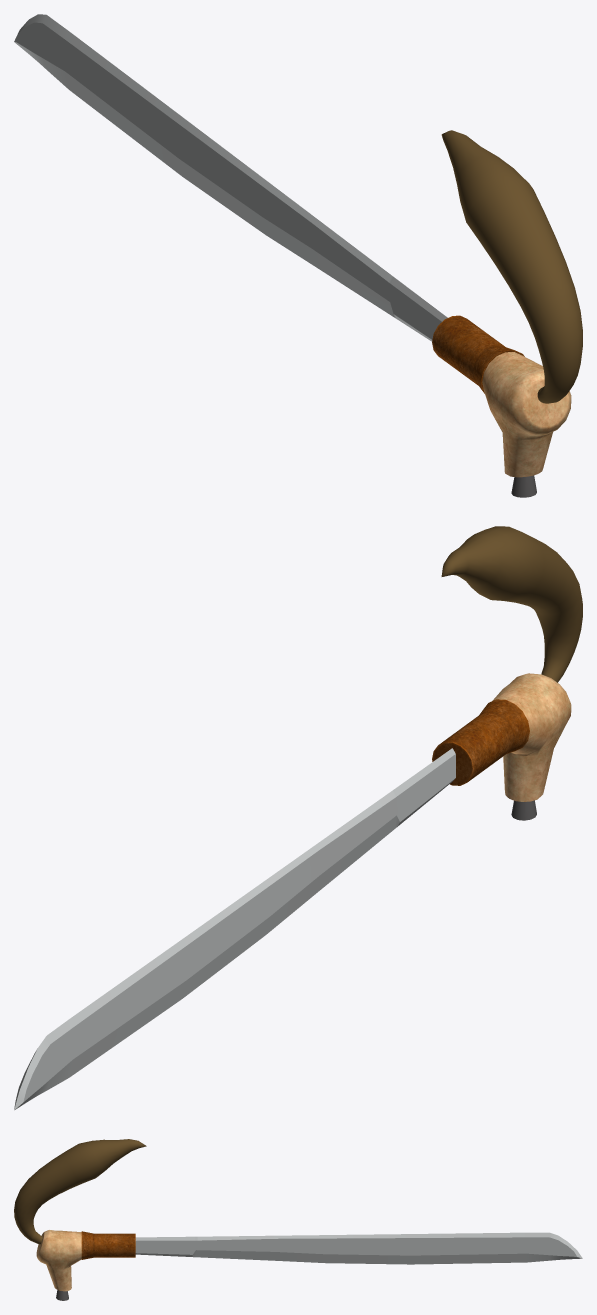
3 views of the same model, one above another, from view 1: azimuth 30°, elevation 25°; view 2: azimuth 150°, elevation 25°; view 3: azimuth 270°, elevation 25° (orthographic). The views are drawn at different scales.
Visible parts, largest first — view 1: Pisau_Mandau_Kalimantan; view 2: Pisau_Mandau_Kalimantan; view 3: Pisau_Mandau_Kalimantan.
Boxes of the visible parts, x1,y1,x2,y2 form: Pisau_Mandau_Kalimantan: (14, 14, 582, 497); Pisau_Mandau_Kalimantan: (14, 526, 582, 1110); Pisau_Mandau_Kalimantan: (14, 1139, 582, 1300).
Bounding box in the file's own units: 0.00734 × 0.0333 × 0.1082.
1 material, 1 textured.
